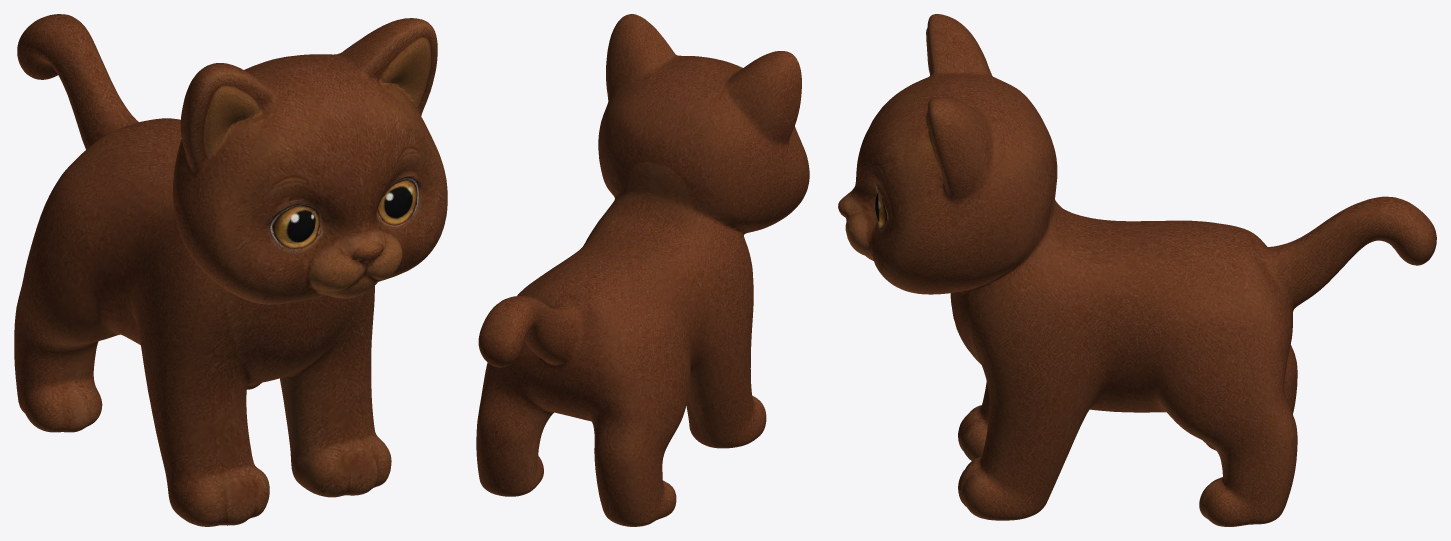
Rendered from meshy-burmese.glb.
3 views of the same model, side by side, from view 1: azimuth 30°, elevation 25°; view 2: azimuth 150°, elevation 25°; view 3: azimuth 270°, elevation 25° (orthographic). The views are drawn at different scales.
Visible parts, largest first — view 1: Mesh_0; view 2: Mesh_0; view 3: Mesh_0.
Boxes of the visible parts, x1,y1,x2,y2 form: Mesh_0: [14, 14, 447, 526]; Mesh_0: [476, 14, 809, 526]; Mesh_0: [838, 14, 1436, 526].
Bounding box in the file's own units: 0.7984 × 1.48 × 1.9.
1 material, 1 textured.
